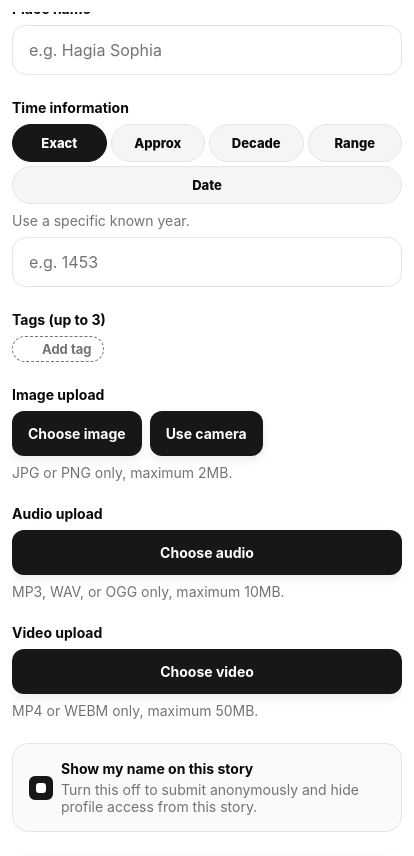
SubmissionScreen › shows an inline image validation error for oversized uploads
(page scrolled)
Click the button "Choose image". click: (77, 434)
box: [12, 411, 142, 456]
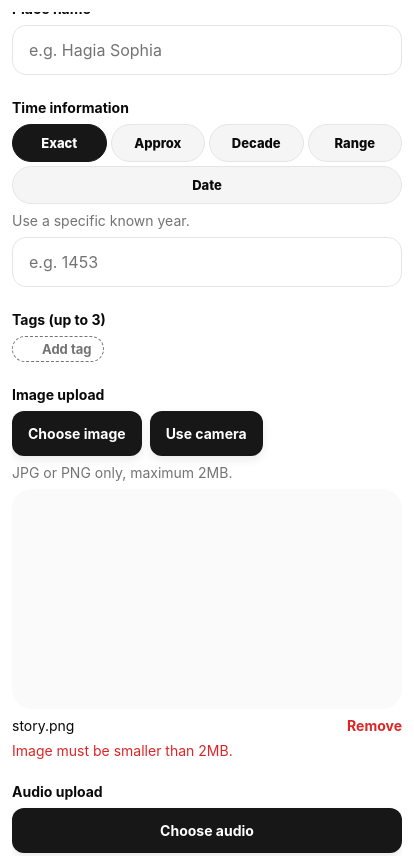
Expected: the text "Image must be smaller than 2MB." is shown, [12, 742, 233, 759]
